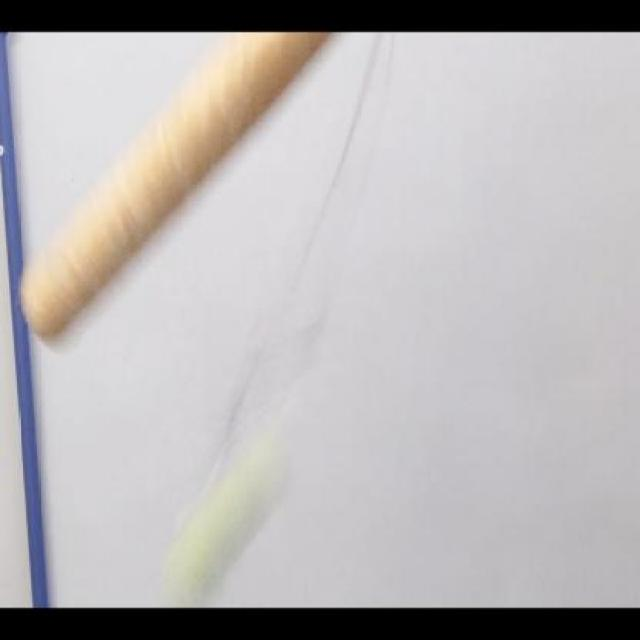baseball: (162, 436, 298, 604)
